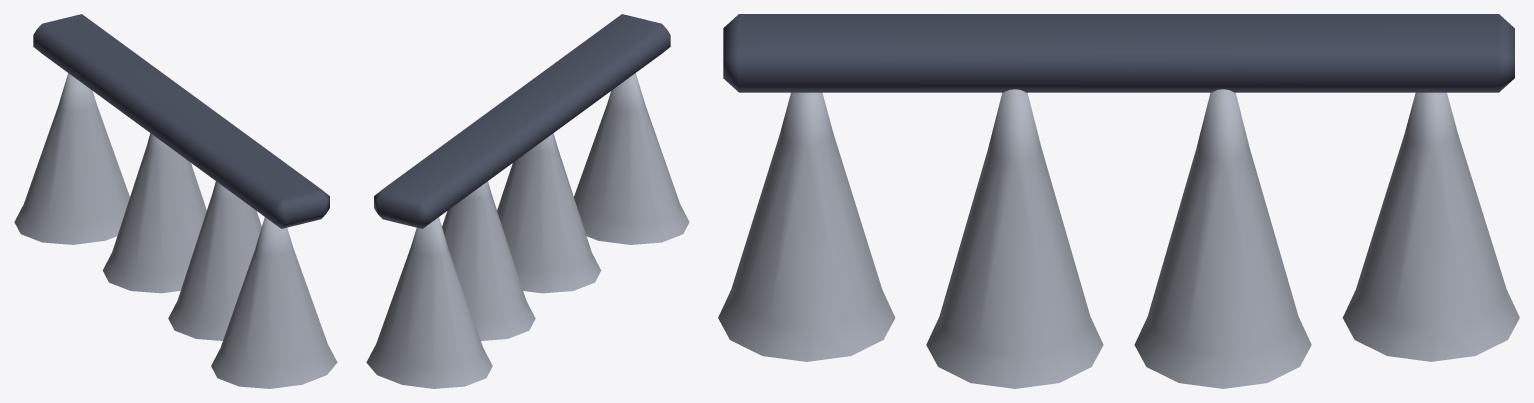
File: SM_SharkKit_ChromeTeeth.fbx
The picture shows the model from 3 angles, left to right: view 1: azimuth 30°, elevation 25°; view 2: azimuth 150°, elevation 25°; view 3: azimuth 270°, elevation 25°; orthographic projection. The views are drawn at different scales.
Parts seen in each view (by area): view 1: SM_SharkKit_ChromeTeeth; view 2: SM_SharkKit_ChromeTeeth; view 3: SM_SharkKit_ChromeTeeth.
Part boxes in pixels (<box>): SM_SharkKit_ChromeTeeth: <box>14,14,337,388</box>; SM_SharkKit_ChromeTeeth: <box>366,14,689,388</box>; SM_SharkKit_ChromeTeeth: <box>718,14,1519,388</box>.
Size of the model in its own units: 24.05 by 32.05 by 77.04.
